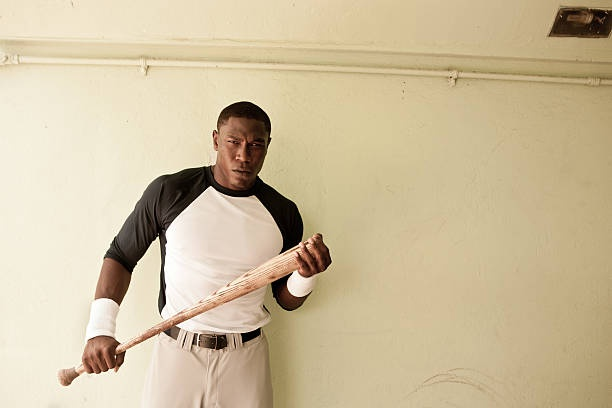bita: (60, 238, 328, 384)
